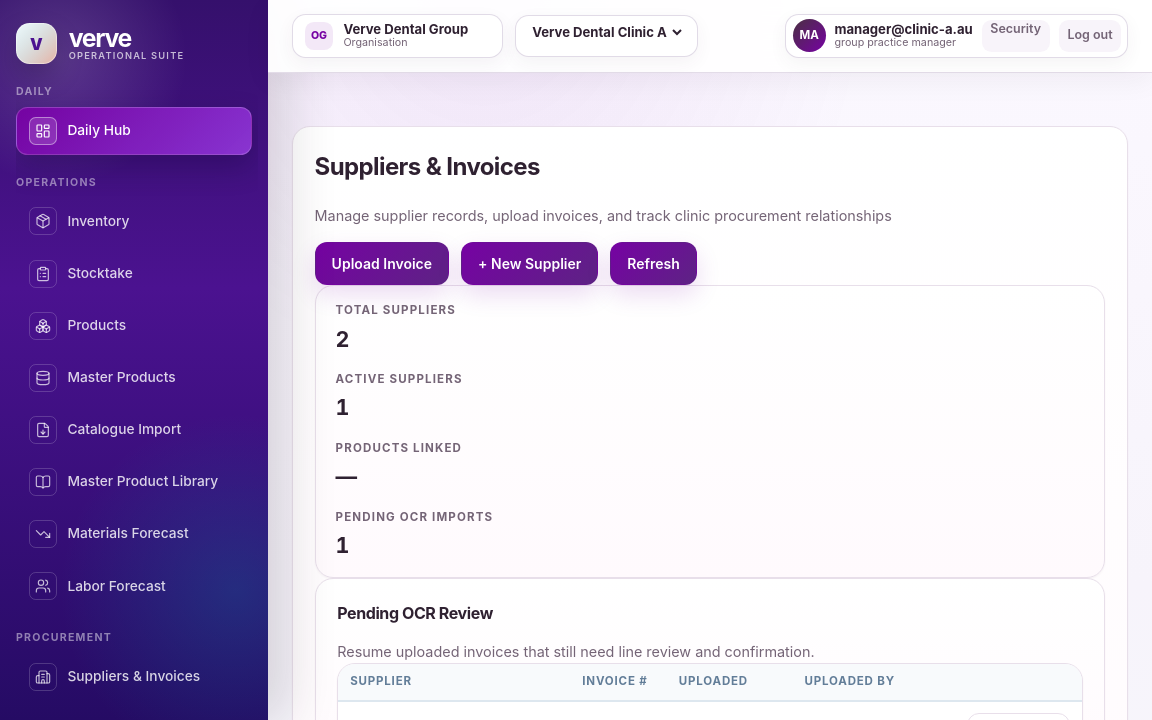
Test: SuppliersPage › new supplier modal carries supplier-modal--scrollable class for viewport overflow protection
Click the button "+ New Supplier".
click(530, 264)  # box [461,242,598,285]
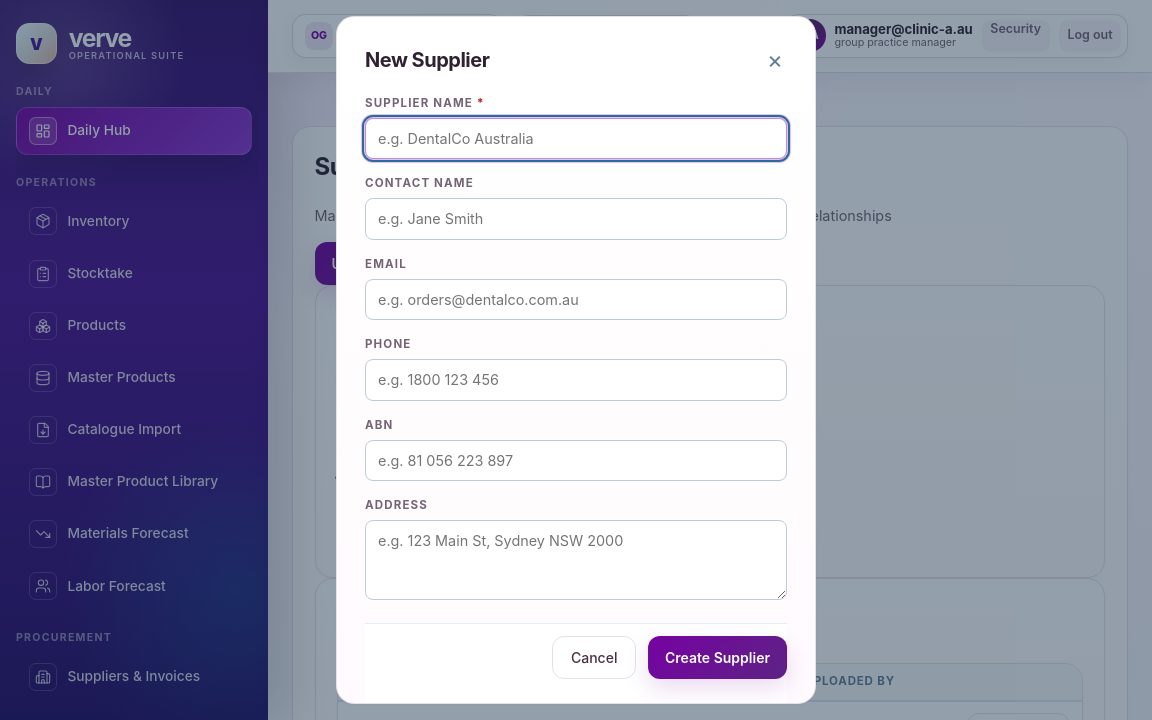
Expected: the element with class "supplier-modal--scrollable" is shown, [336,16,816,704]
